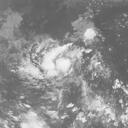cyclone: (40, 44, 77, 80)
